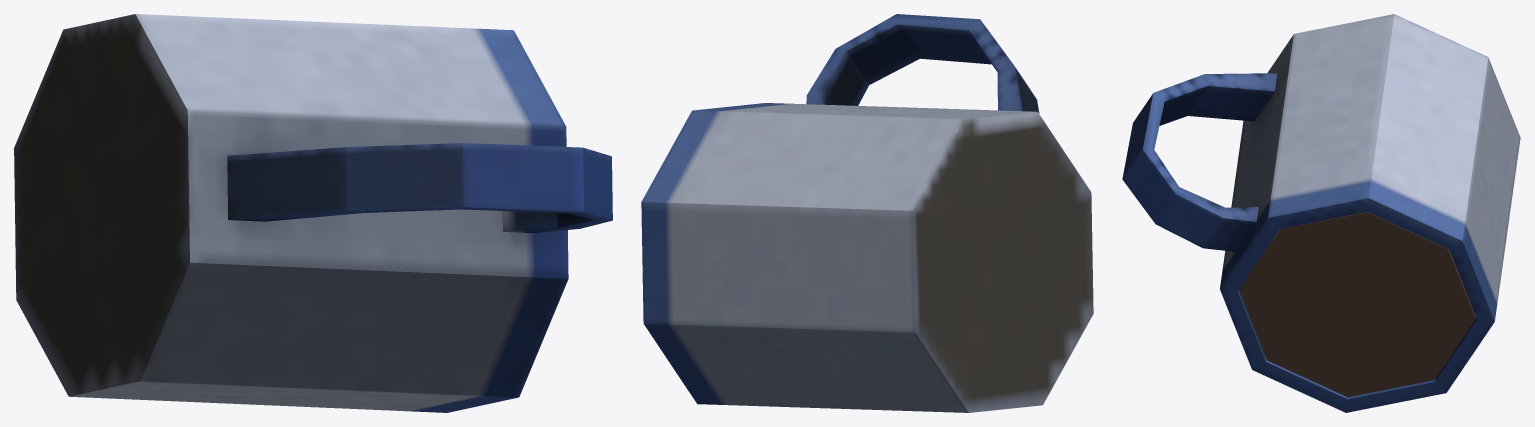
The model's file is CocoaMugAnchor.fbx.
3 views of the same model, side by side, from view 1: azimuth 30°, elevation 25°; view 2: azimuth 150°, elevation 25°; view 3: azimuth 270°, elevation 25° (orthographic). The views are drawn at different scales.
Visible parts, largest first — view 1: LMACP_; view 2: LMACP_; view 3: LMACP_, MugALiquid.
Boxes of the visible parts, x1,y1,x2,y2 form: LMACP_: (14,14,612,412); LMACP_: (641,14,1093,412); LMACP_: (1122,14,1520,412); MugALiquid: (1239,212,1475,397).
Size of the model in its own units: 17.86 by 17 by 20.09.
